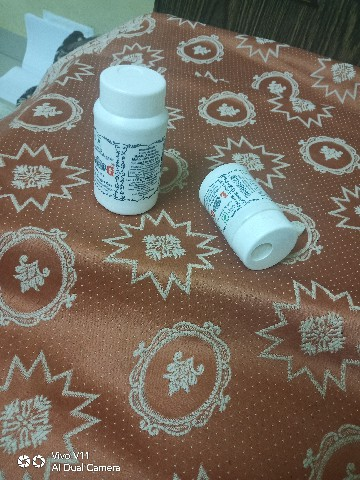lgasafoetidapowder large: (83, 56, 170, 253)
lgasafoetidapowder small: (191, 105, 307, 290)
